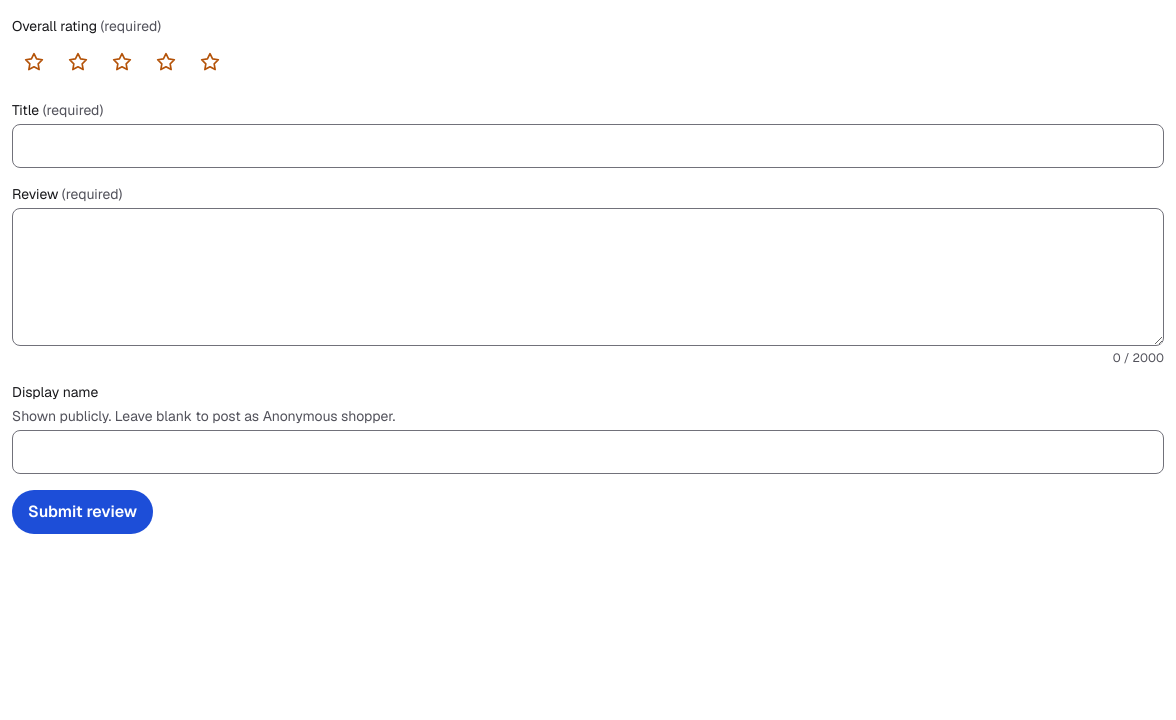
ReviewForm interactions › success: polite confirmation and the form is cleared
This screenshot has width=1176, height=720.
Click the 4th radio button at (166, 62), box [144, 40, 188, 84]
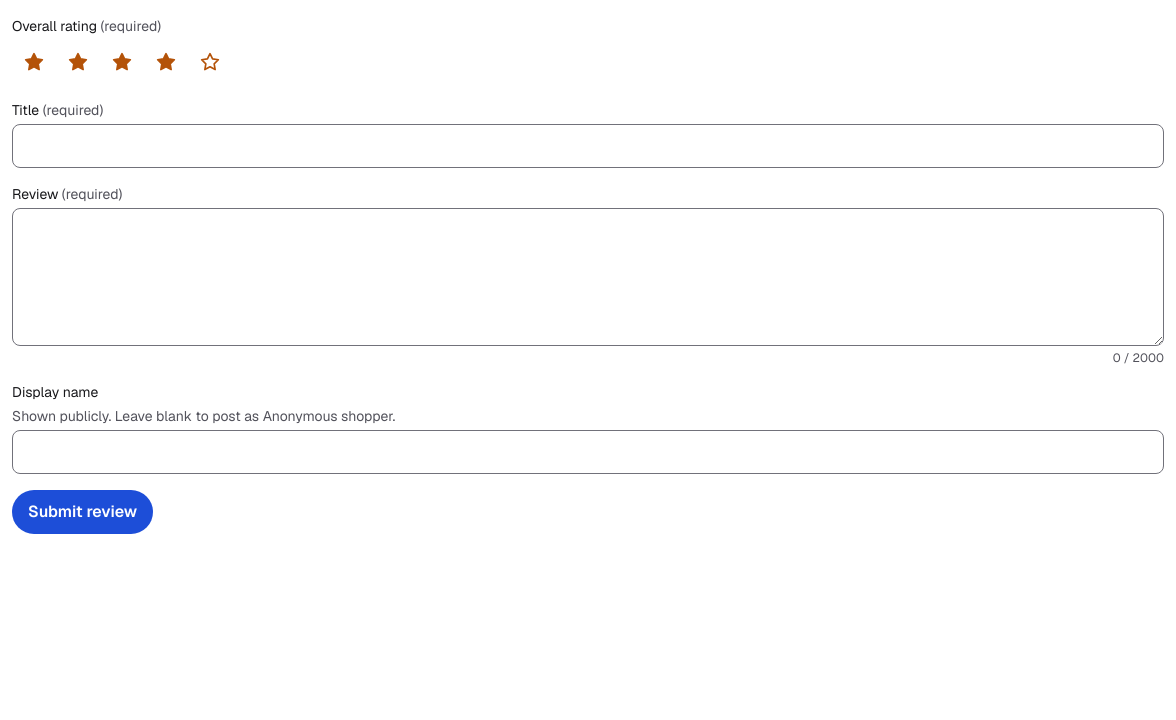
Type "Sturdy" into the field labelled "Title (required)" at (588, 146), box [12, 124, 1164, 168]
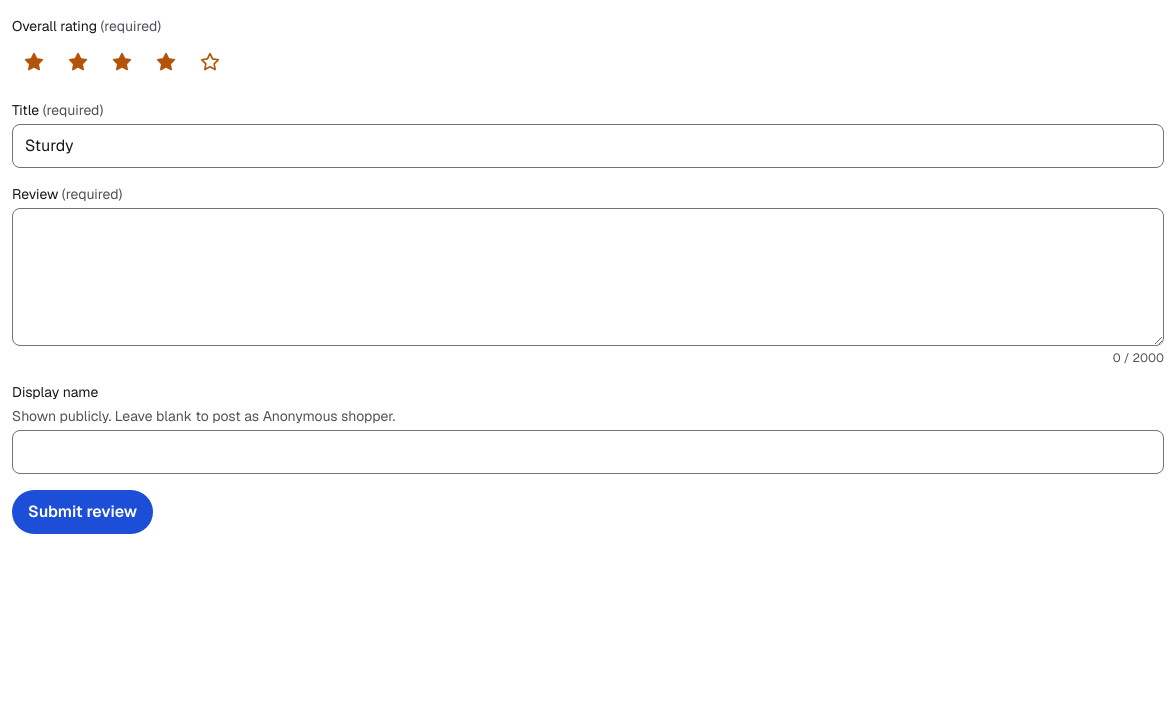
Type "Solid desk, easy build." into the text box with id "review-body" at (588, 277), box [12, 208, 1164, 346]
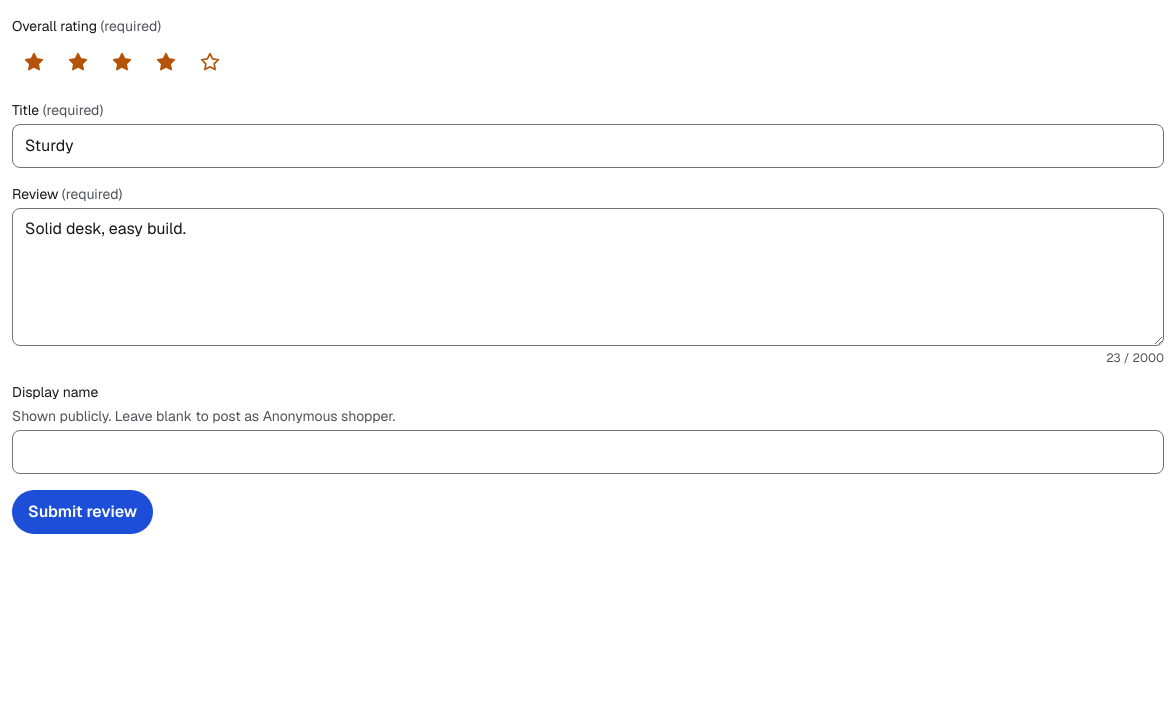
Type "Ada" into the field with id "review-display-name" at (588, 452), box [12, 430, 1164, 474]
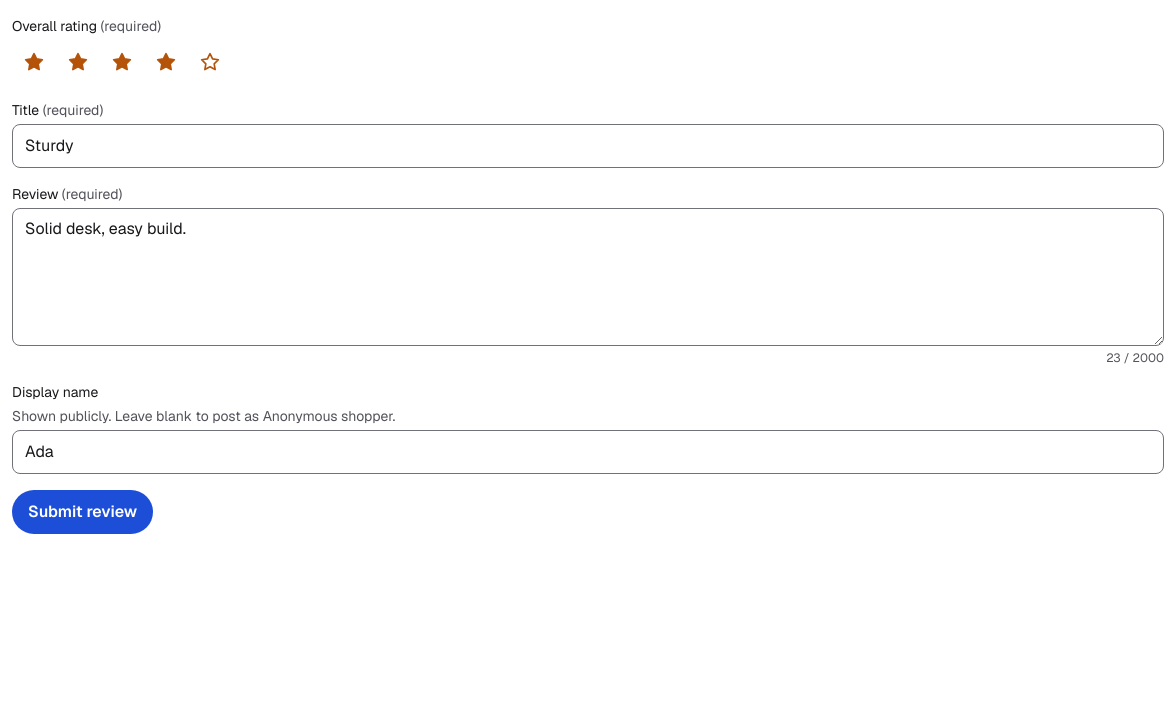
Submit the form with id "write-review"
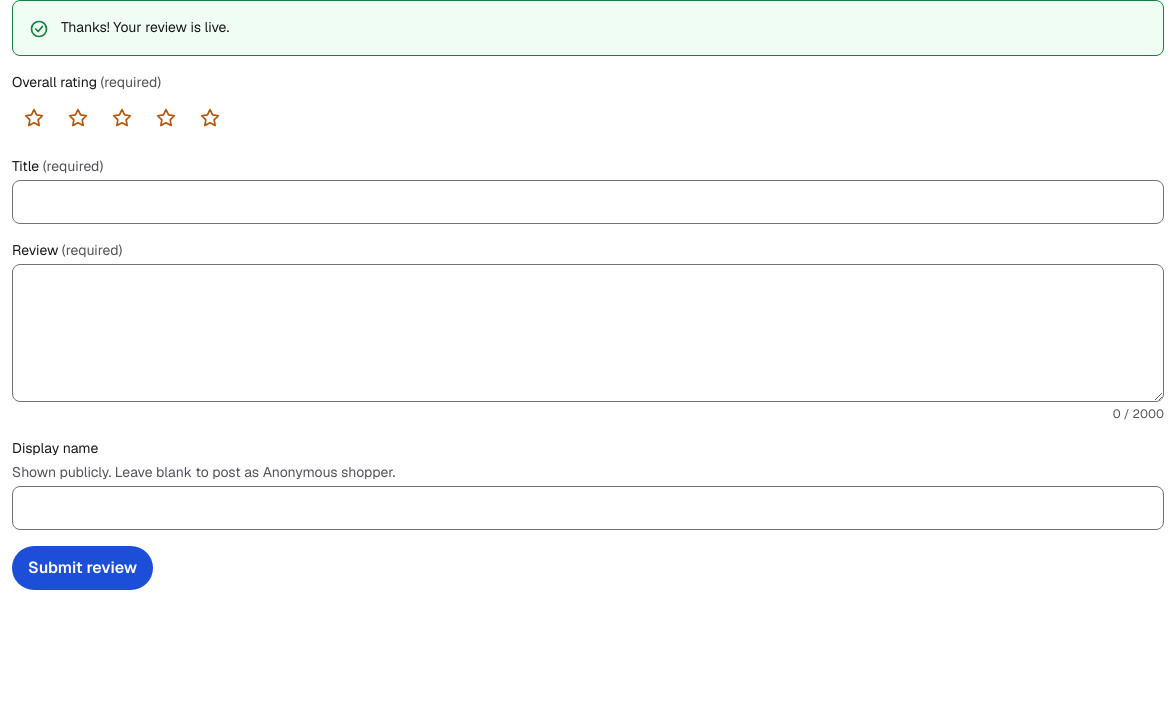
Expected: the text "Thanks! Your review is live." is shown, [12, 0, 1164, 56]
Expected: the text box with id "review-body" is empty, [12, 264, 1164, 402]
Expected: the field with id "review-display-name" is empty, [12, 486, 1164, 530]
